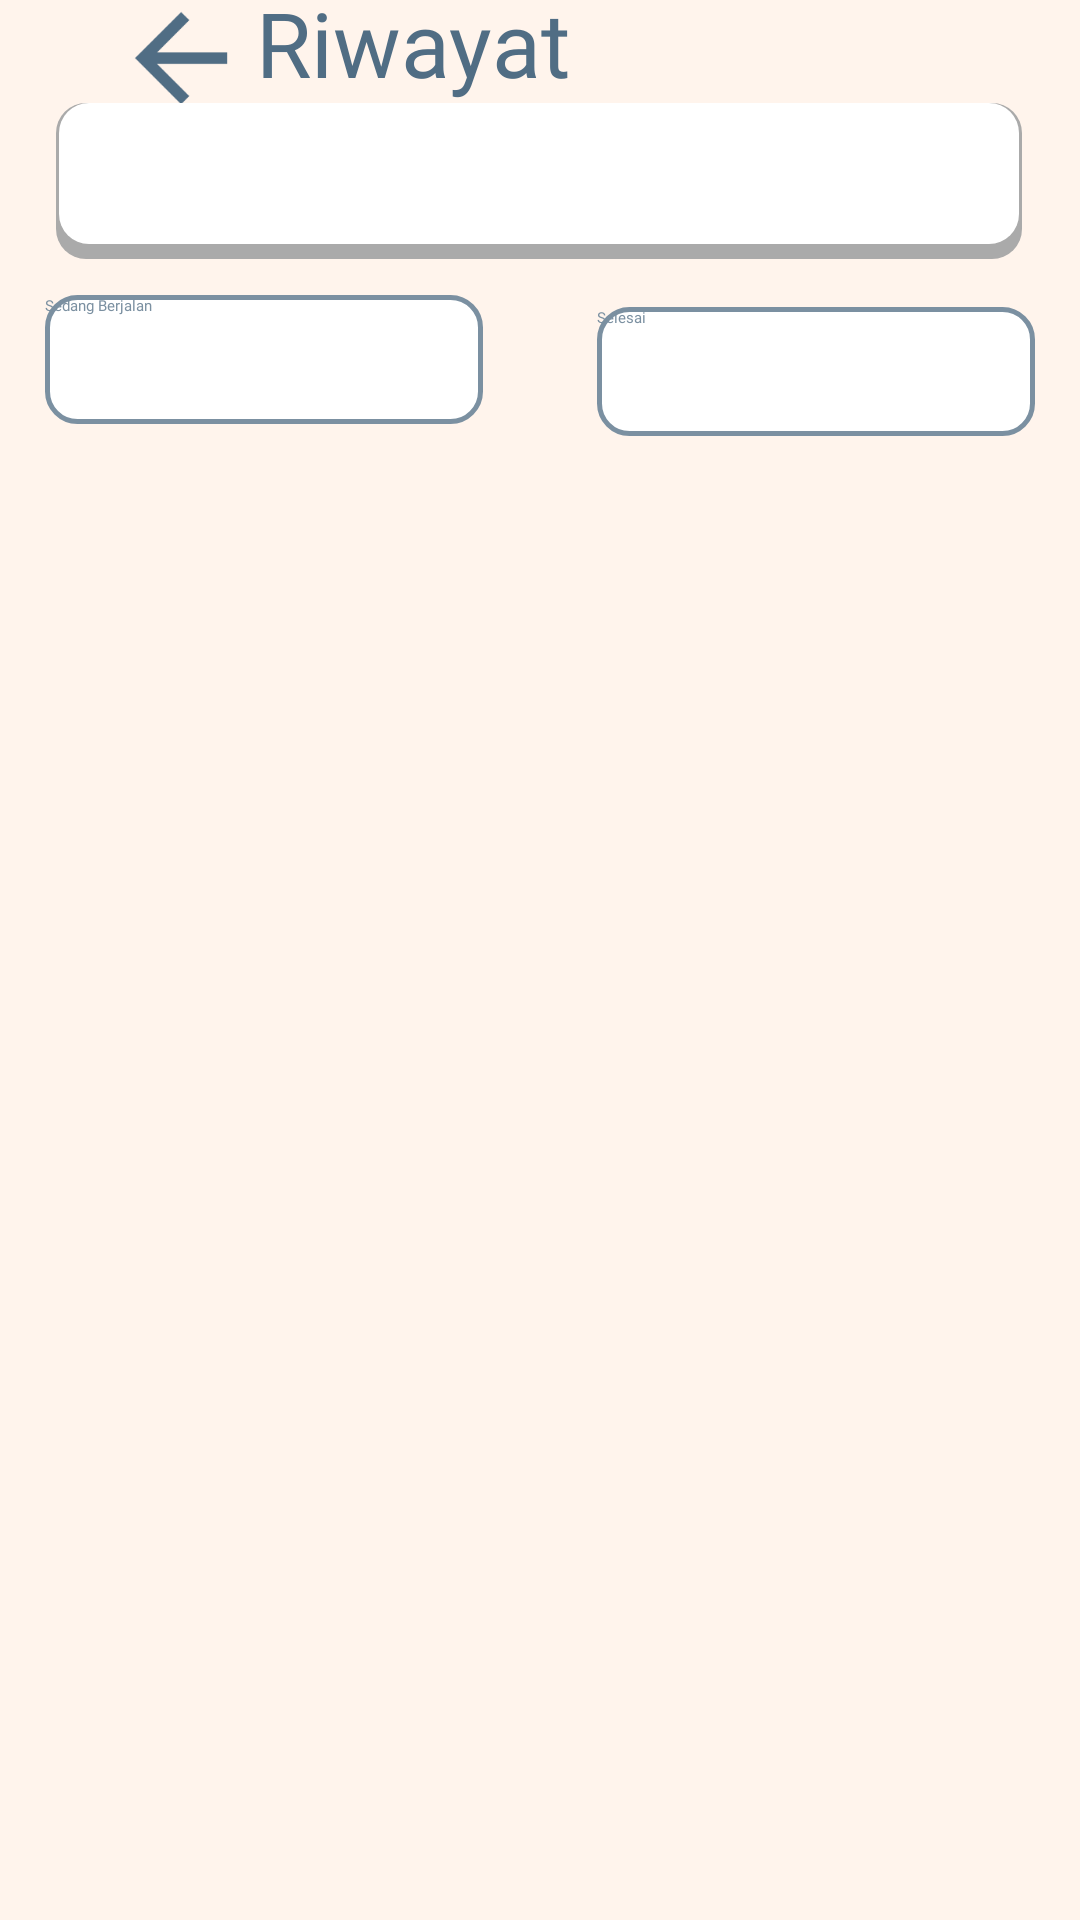

Where to tap for icons on this 1080px x 1920px app screen, as (x,y):
btnback: (181,57)
